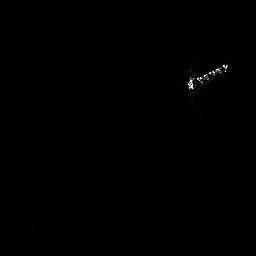ship: (186, 63, 228, 90)
